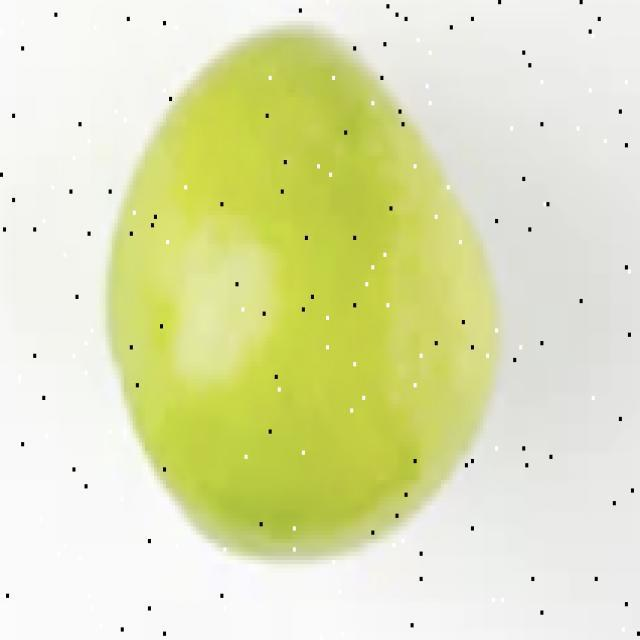Fresh Apple: (92, 41, 510, 572)
